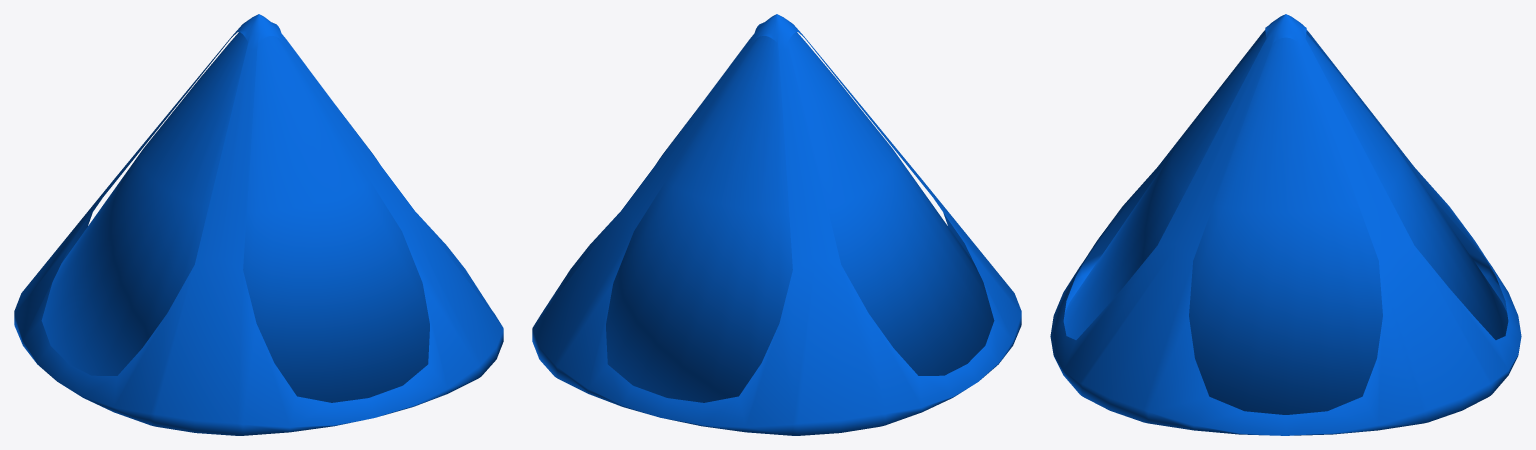
The model's file is building_kit.glb.
3 renders of one model, left to right at view 1: azimuth 30°, elevation 25°; view 2: azimuth 150°, elevation 25°; view 3: azimuth 270°, elevation 25°, orthographic.
Visible parts, largest first — view 1: nose_cone_bp; view 2: nose_cone_bp; view 3: nose_cone_bp.
Part boxes in pixels (left/top/right/bottom): nose_cone_bp: left=14, top=14, right=503, bottom=435; nose_cone_bp: left=532, top=14, right=1021, bottom=435; nose_cone_bp: left=1050, top=14, right=1521, bottom=435.
Size of the model in its own units: 0.9257 by 0.719 by 0.9257.
